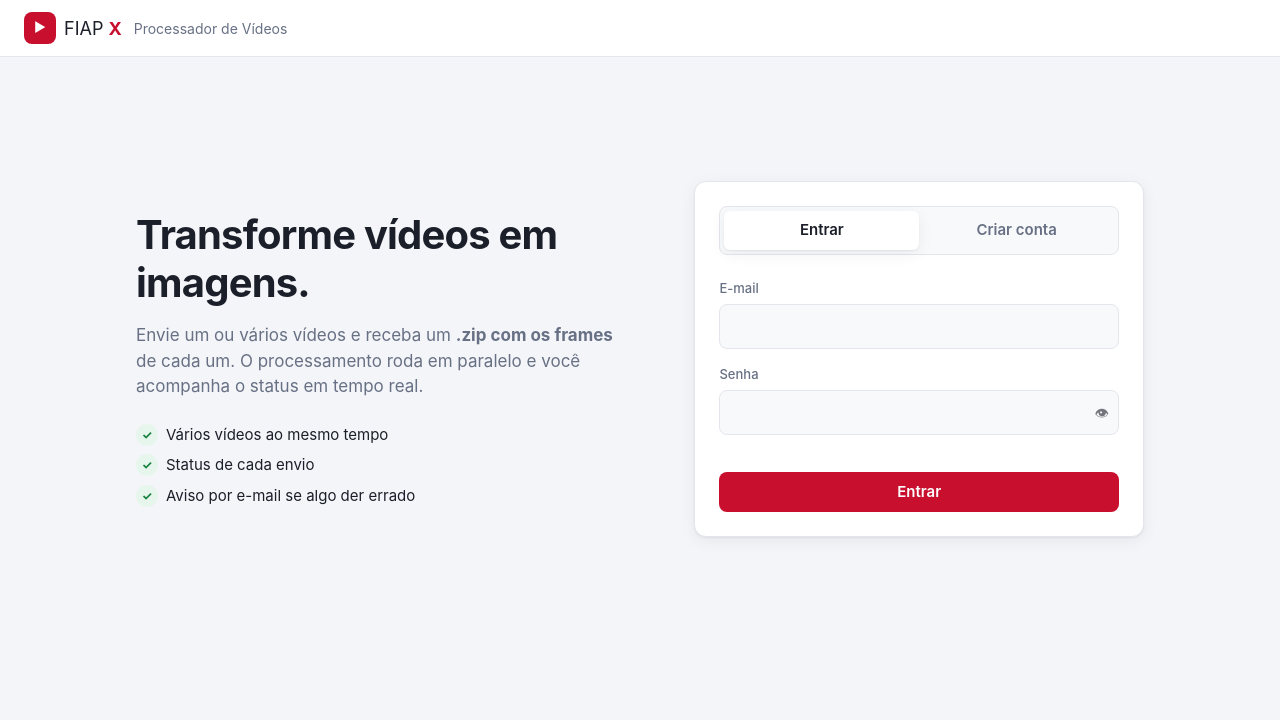
Test case: acesso › cadastra e já entra logado
The image size is (1280, 720).
Click the tab "Criar conta" at coordinates (1017, 231), box [919,211,1114,250]
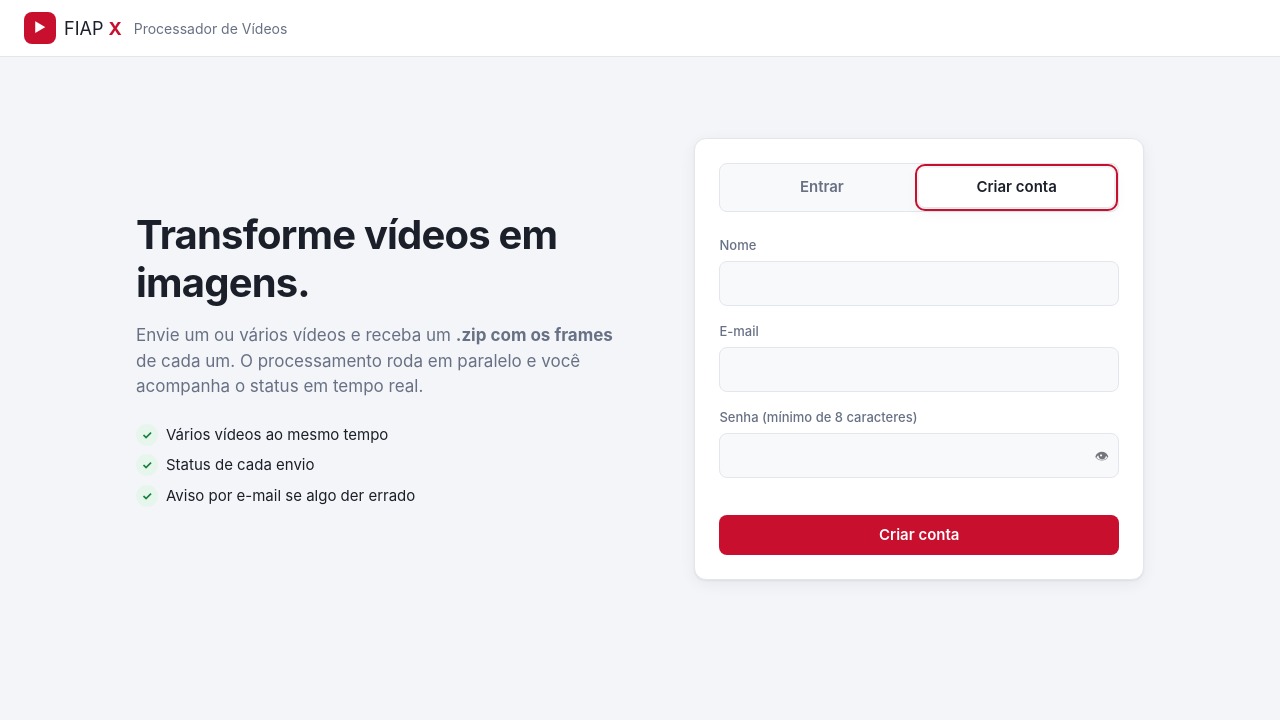
Type "Ana Souza" into the field labelled "Nome" at coordinates (919, 284), box [720,261,1119,306]
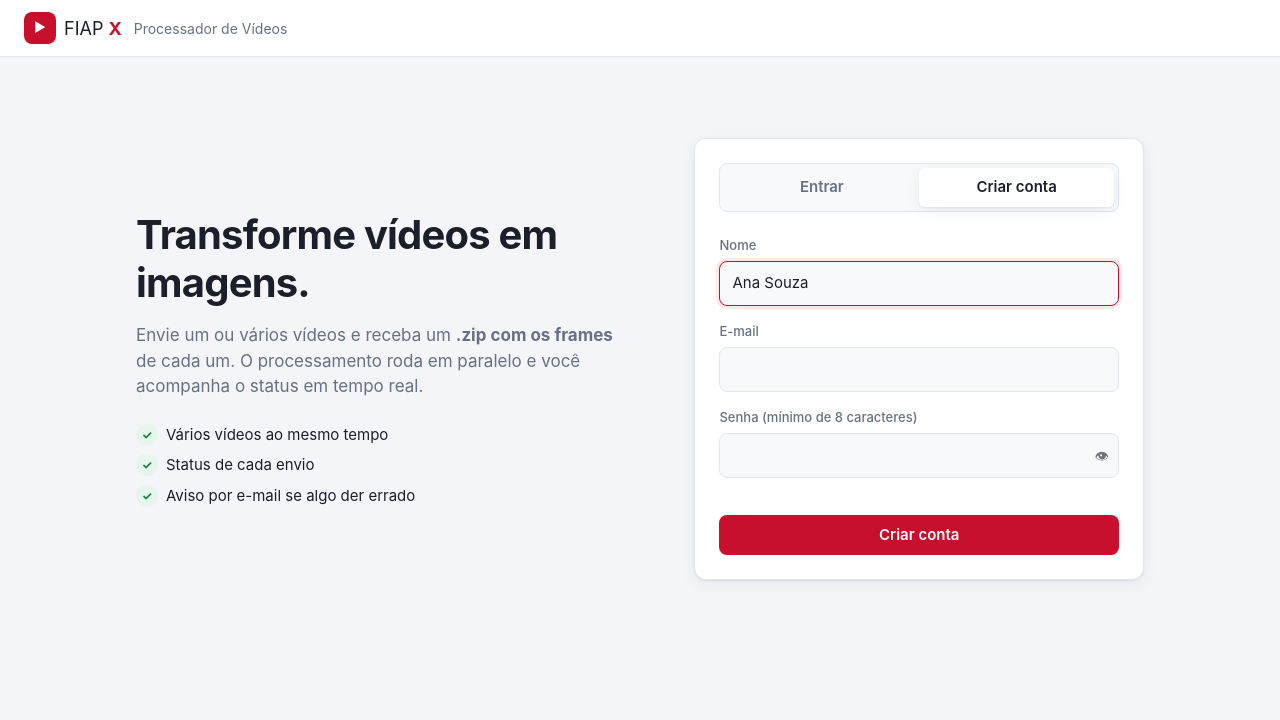
Type "ana@fiapx.com" into the field labelled "E-mail" at coordinates (919, 370), box [720,347,1119,392]
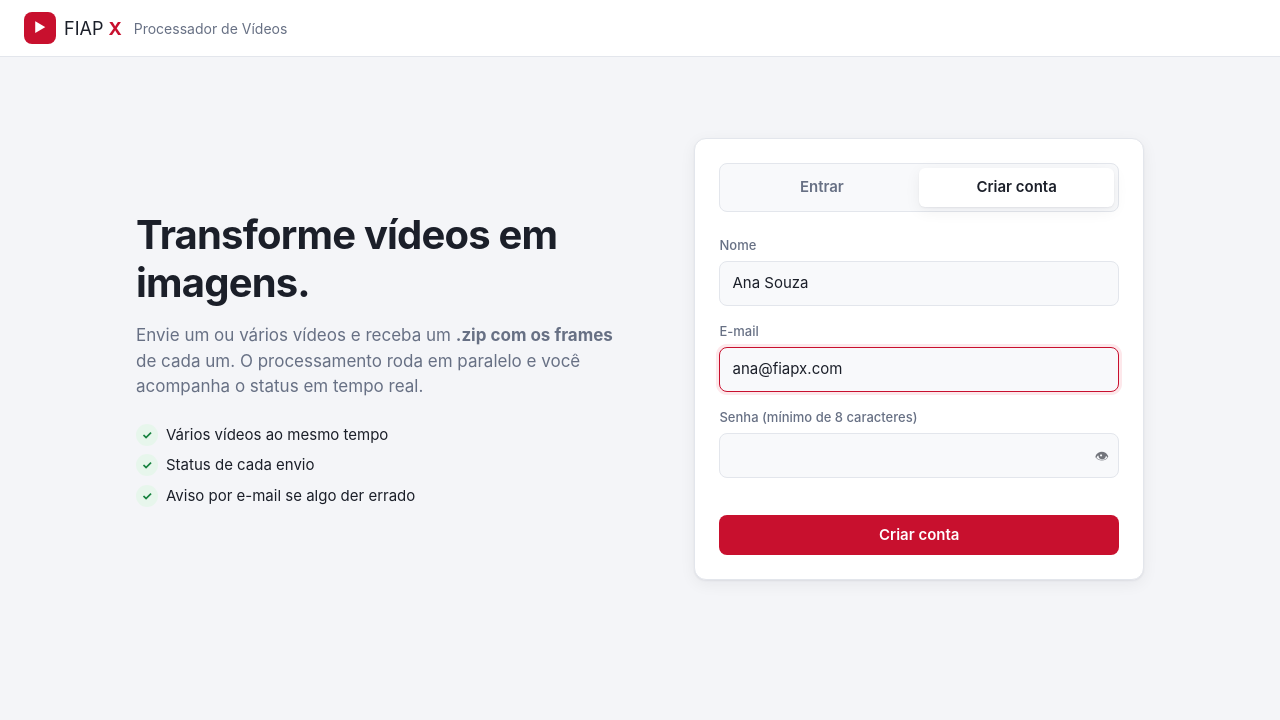
Type "senha-segura" into the password field labelled "Senha (mínimo de 8 caracteres)" at coordinates (919, 456), box [720,433,1119,478]
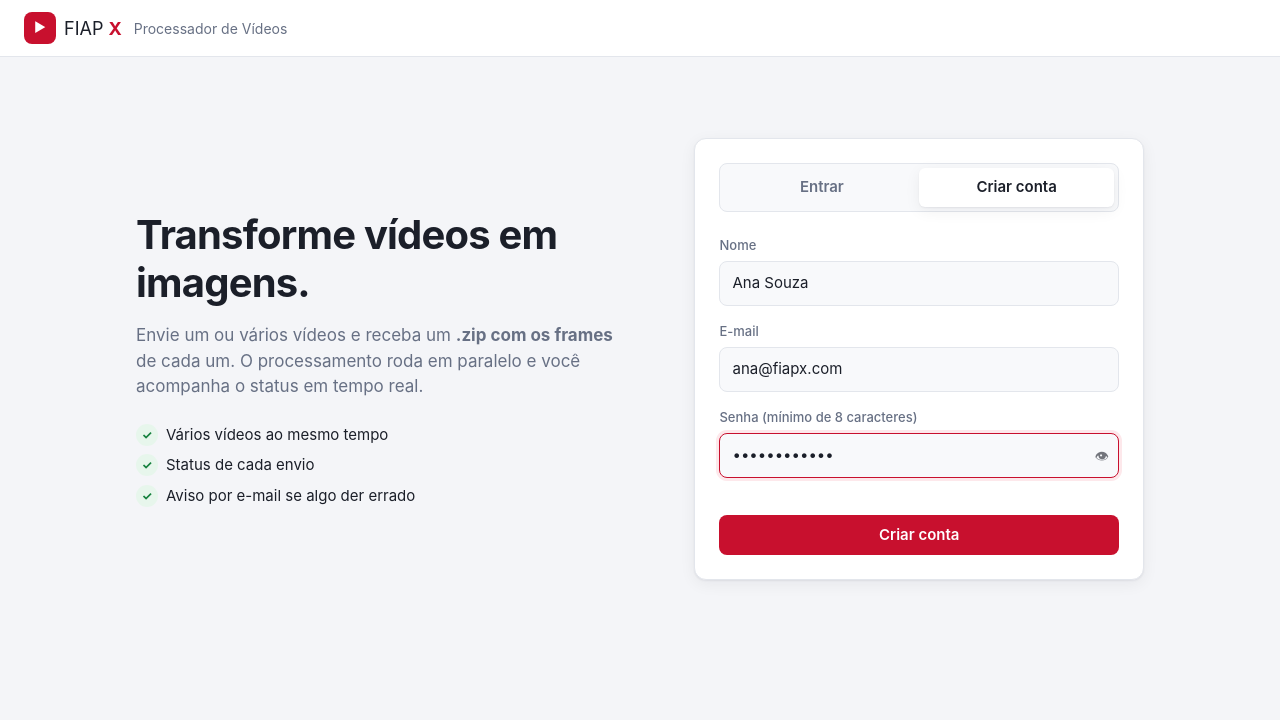
Click the button "Criar conta" at coordinates (919, 535), box [720,515,1119,555]
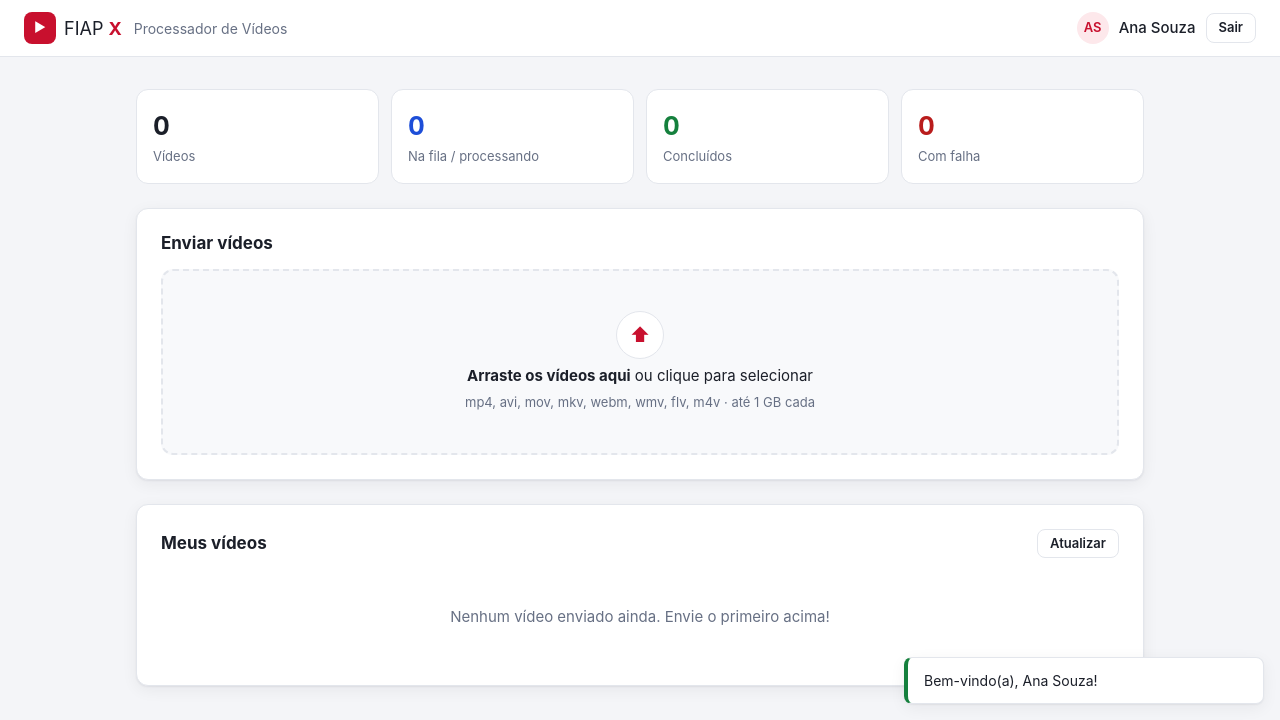
expect the text "Nenhum vídeo enviado ainda. Envie o primeiro acima!" is shown: met, box [450,608,830,626]
expect the text "Bem-vindo(a), Ana Souza!" is shown: met, box [904,657,1264,704]
